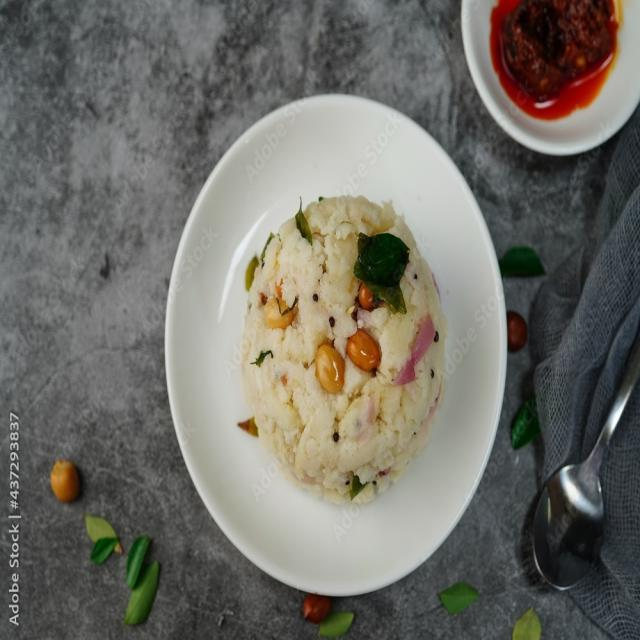UPMA: (243, 196, 444, 498)
